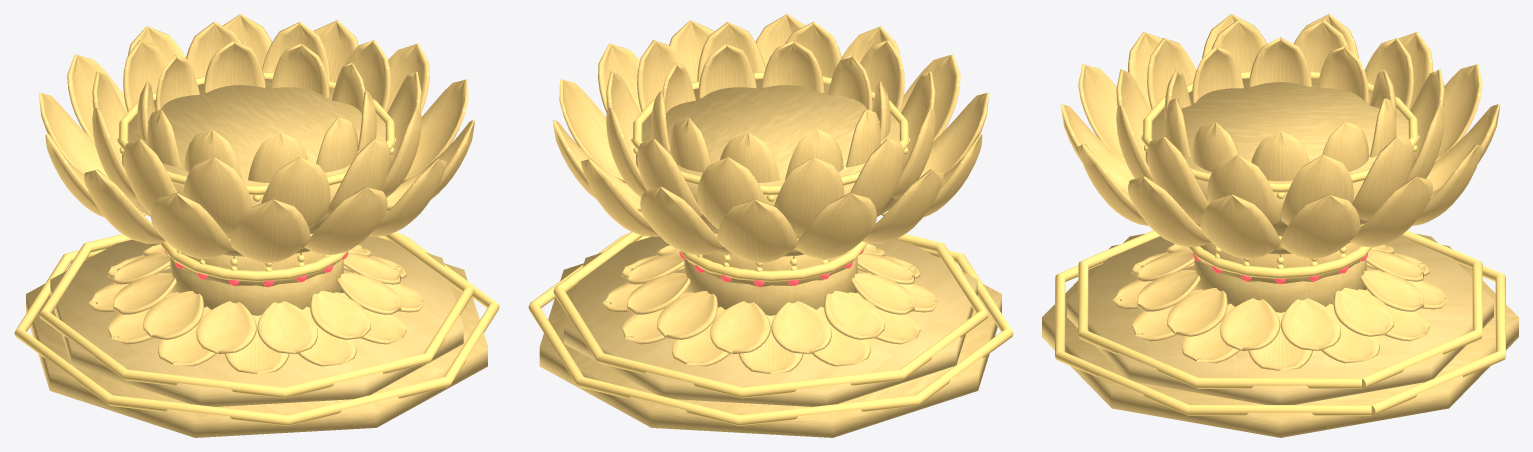
The model's file is rengeza.glb.
The picture shows the model from 3 angles, left to right: view 1: azimuth 30°, elevation 25°; view 2: azimuth 150°, elevation 25°; view 3: azimuth 270°, elevation 25°; orthographic projection.
Visible parts, largest first — view 1: Cylinder.001, Cylinder, Cylinder.020, trim.001, trim, Cylinder.002, petal.037, petal.036, petal.048, petal.024, petal.049, petal.027 (+48 smaller); view 2: Cylinder.001, Cylinder, Cylinder.020, trim.001, trim, Cylinder.002, petal.032, petal.033, petal.031, petal.045, petal.044, petal.028 (+48 smaller); view 3: Cylinder.001, Cylinder, Cylinder.020, trim.001, trim, Cylinder.002, petal.027, petal.028, petal.026, petal.029, petal.039, petal.042 (+48 smaller).
Boxes of the visible parts, box(x1,y1,x2,y2) form: Cylinder.001: box(50, 236, 463, 406); Cylinder: box(26, 263, 487, 437); Cylinder.020: box(122, 79, 391, 237); trim.001: box(39, 231, 474, 398); trim: box(14, 234, 499, 425); Cylinder.002: box(170, 257, 343, 315); petal.037: box(230, 198, 310, 263); petal.036: box(151, 192, 232, 258); petal.048: box(183, 157, 253, 239); petal.024: box(304, 186, 387, 255); petal.049: box(261, 157, 330, 229); petal.027: box(401, 79, 468, 183); Cylinder.001: box(564, 236, 977, 406); Cylinder: box(539, 263, 1001, 437); Cylinder.020: box(636, 79, 905, 237); trim.001: box(553, 231, 988, 398); trim: box(528, 234, 1013, 425); Cylinder.002: box(684, 257, 857, 315); petal.032: box(717, 198, 797, 263); petal.033: box(795, 192, 876, 258); petal.031: box(640, 186, 723, 255); petal.045: box(774, 157, 844, 239); petal.044: box(697, 157, 766, 229); petal.028: box(559, 79, 626, 184); Cylinder.001: box(1067, 234, 1493, 404); Cylinder: box(1042, 245, 1518, 437); Cylinder.020: box(1145, 78, 1415, 236); trim.001: box(1078, 230, 1482, 388); trim: box(1055, 263, 1505, 415); Cylinder.002: box(1194, 258, 1366, 312); petal.027: box(1200, 193, 1280, 258); petal.028: box(1280, 193, 1360, 258); petal.026: box(1128, 176, 1210, 246); petal.029: box(1350, 176, 1432, 246); petal.039: box(1147, 136, 1208, 220); petal.042: box(1352, 136, 1413, 220).
Size of the model in its own units: 3.04 by 1.78 by 3.04.
6 materials, 4 textured.
